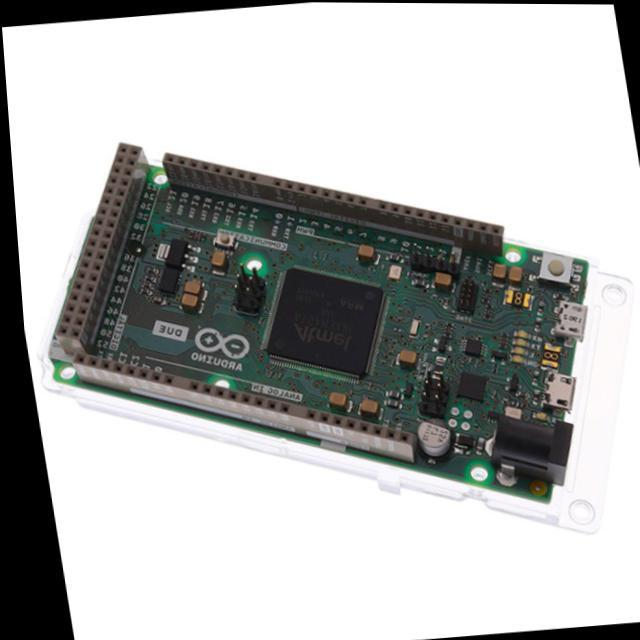Arduino-Due: (52, 146, 587, 502)
